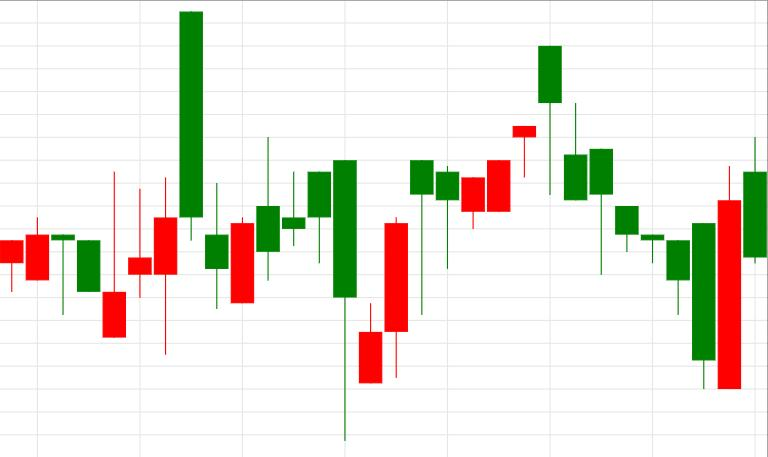bullish_engulfing_rise: (538, 45, 741, 389)
